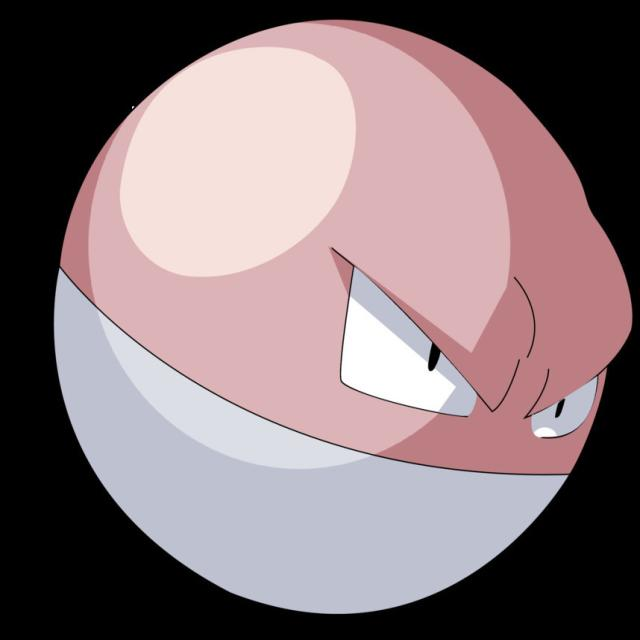Voltorb: (51, 26, 630, 618)
